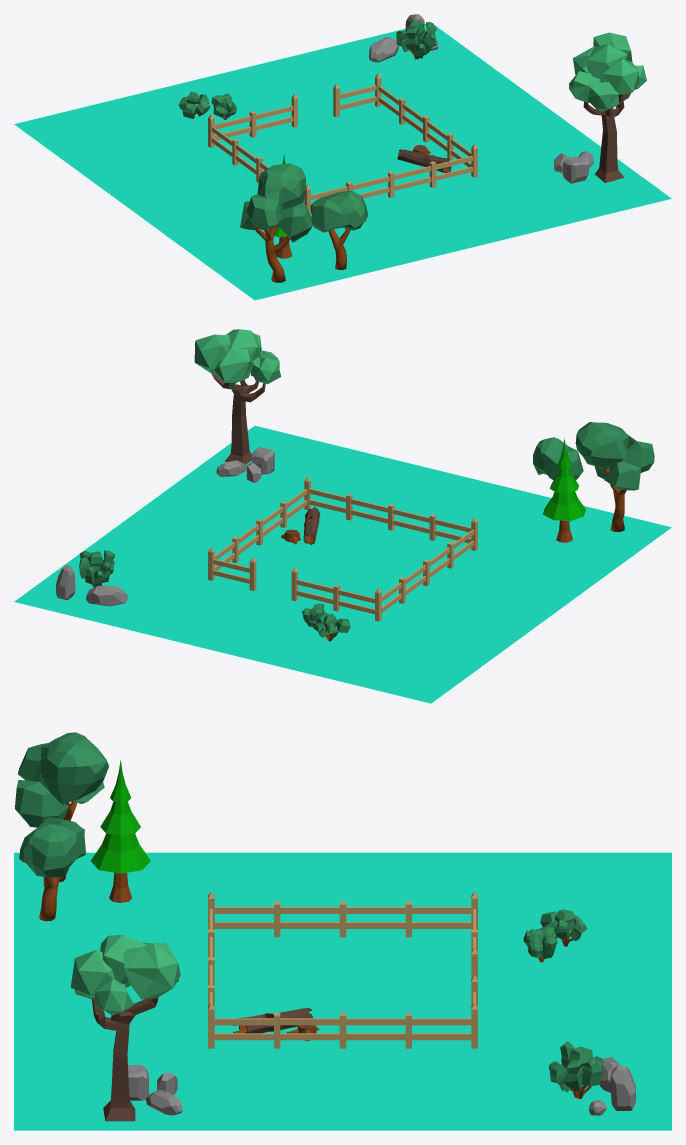
Rendered from region-1.glb.
3 renders of one model, top to bottom at view 1: azimuth 30°, elevation 25°; view 2: azimuth 150°, elevation 25°; view 3: azimuth 270°, elevation 25°, orthographic. The views are drawn at different scales.
Parts seen in each view (by area): view 1: rock-6; view 2: rock-6; view 3: rock-6.
Part boxes in pixels (<box>): rock-6: <box>14,14,671,300</box>; rock-6: <box>14,329,671,703</box>; rock-6: <box>14,732,671,1130</box>.
Size of the model in its own units: 20.38 by 6.13 by 20.
